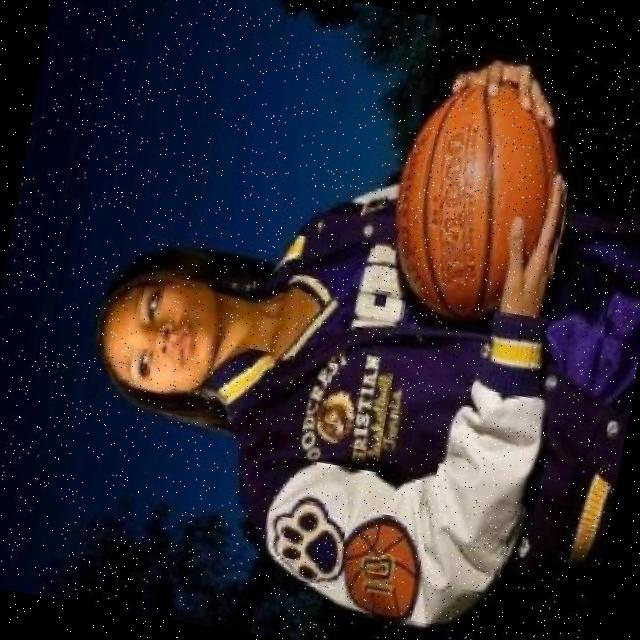ball: (376, 67, 573, 333)
